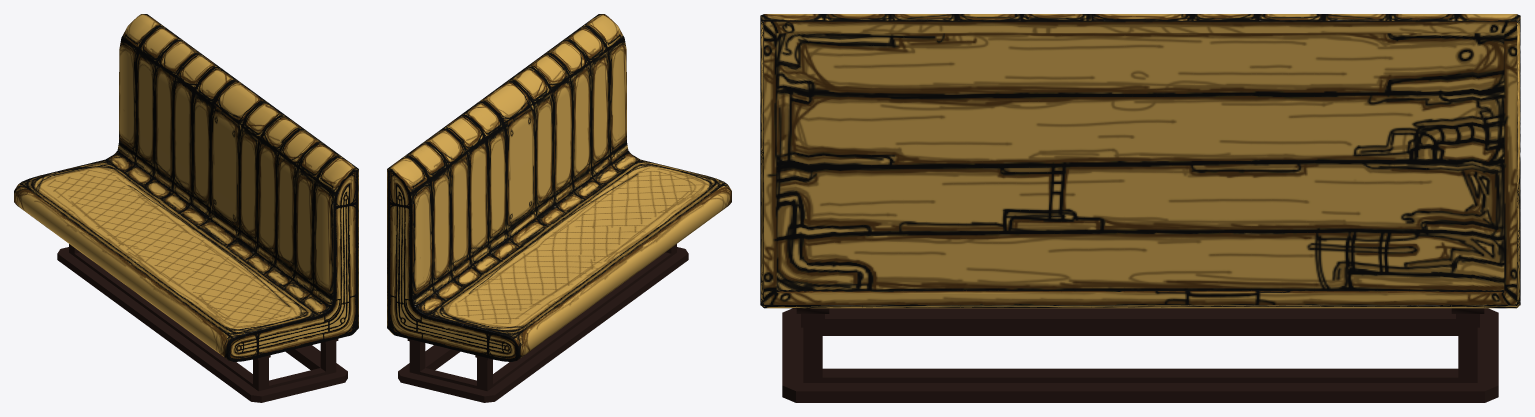
File: sofa.fbx
3 renders of one model, left to right at view 1: azimuth 30°, elevation 25°; view 2: azimuth 150°, elevation 25°; view 3: azimuth 270°, elevation 25°, orthographic. The views are drawn at different scales.
Parts seen in each view (by area): view 1: Cube.001, Cube; view 2: Cube.001, Cube; view 3: Cube.001, Cube.
Boxes of the visible parts, <box> form: Cube.001: <box>14,14,358,361</box>; Cube: <box>57,244,347,402</box>; Cube.001: <box>387,14,731,361</box>; Cube: <box>398,244,688,402</box>; Cube.001: <box>760,14,1520,308</box>; Cube: <box>782,308,1498,402</box>.
Bounding box in the file's own units: 167 × 258 × 462.
